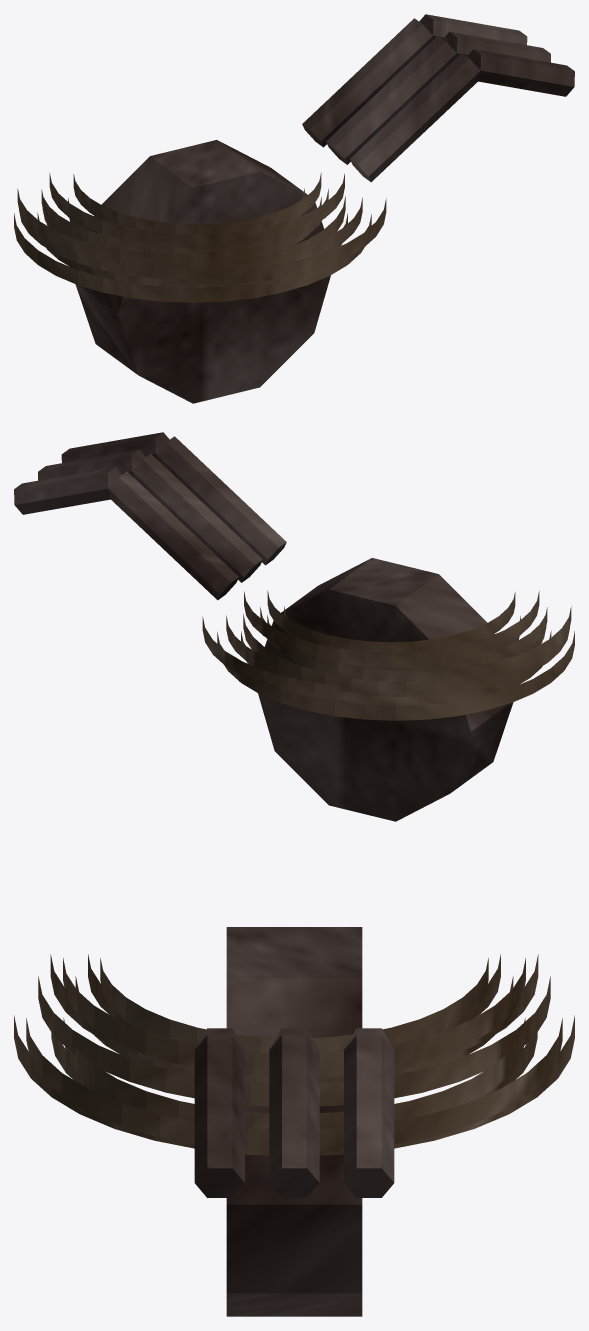
File: 0953_rope_coil_03.glb
3 renders of one model, top to bottom at view 1: azimuth 30°, elevation 25°; view 2: azimuth 150°, elevation 25°; view 3: azimuth 270°, elevation 25°, orthographic. The views are drawn at different scales.
Parts seen in each view (by area): view 1: wood_dark, wood; view 2: wood_dark, wood; view 3: wood_dark, wood.
Boxes of the visible parts, bbox=[...] form: wood_dark: bbox=[75, 14, 574, 403]; wood: bbox=[14, 172, 386, 302]; wood_dark: bbox=[14, 432, 513, 821]; wood: bbox=[202, 590, 574, 720]; wood_dark: bbox=[194, 927, 394, 1316]; wood: bbox=[14, 954, 574, 1155].
Bounding box in the file's own units: 1.36 × 0.7246 × 0.8258.
Materials: 2 (2 with a texture image).
